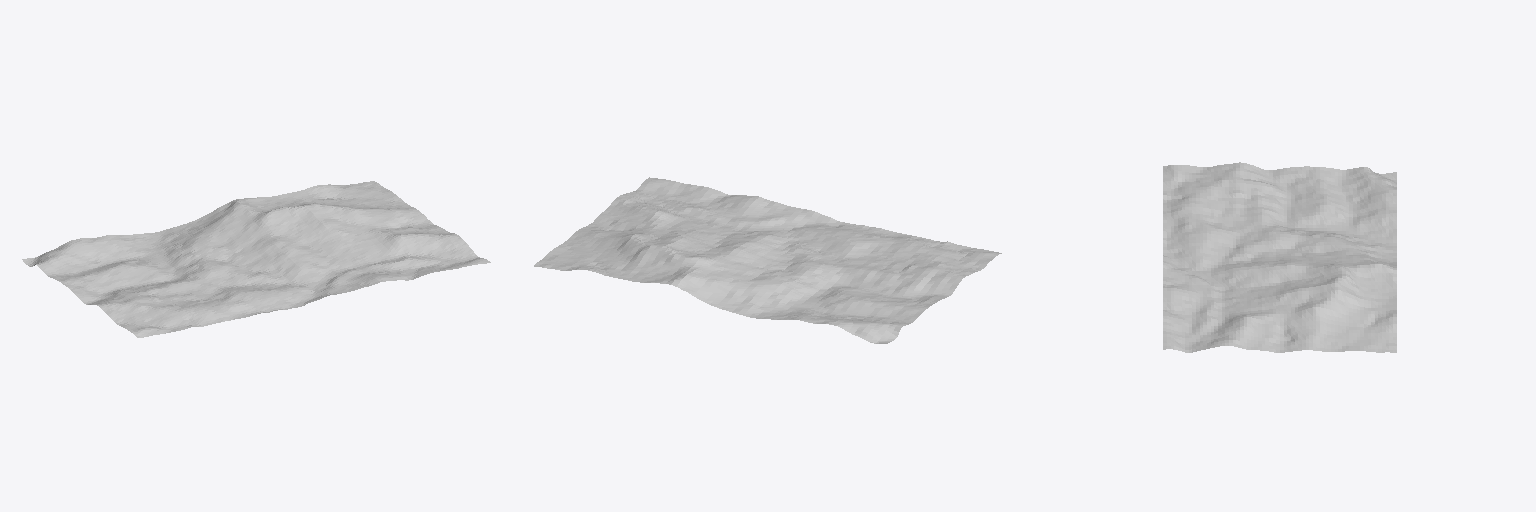
The model's file is nau.obj.
3 views of the same model, side by side, from view 1: azimuth 30°, elevation 25°; view 2: azimuth 150°, elevation 25°; view 3: azimuth 270°, elevation 25° (orthographic).
Visible parts, largest first — view 1: EXPORT_GOOGLE_SAT_WM_rastMat; view 2: EXPORT_GOOGLE_SAT_WM_rastMat; view 3: EXPORT_GOOGLE_SAT_WM_rastMat.
Boxes of the visible parts, x1=… form: EXPORT_GOOGLE_SAT_WM_rastMat: x1=22, y1=181, x2=490, y2=337; EXPORT_GOOGLE_SAT_WM_rastMat: x1=534, y1=177, x2=1001, y2=343; EXPORT_GOOGLE_SAT_WM_rastMat: x1=1163, y1=162, x2=1396, y2=352.
Bounding box in the file's own units: 4280 × 249 × 2446.